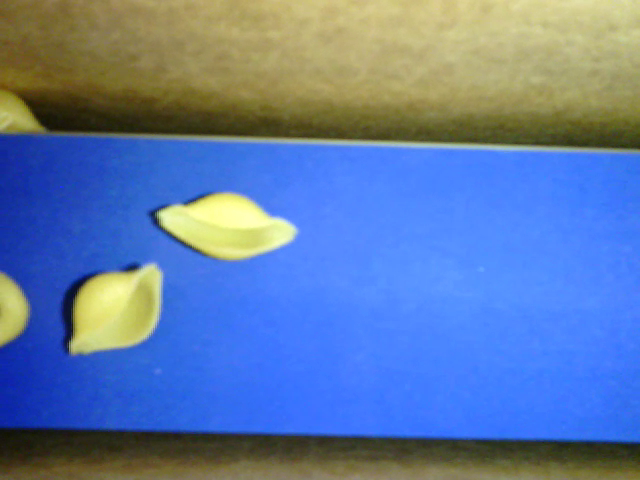elbow: (1, 268, 29, 347)
shell: (153, 182, 297, 263), (66, 261, 163, 356), (1, 90, 53, 138)
